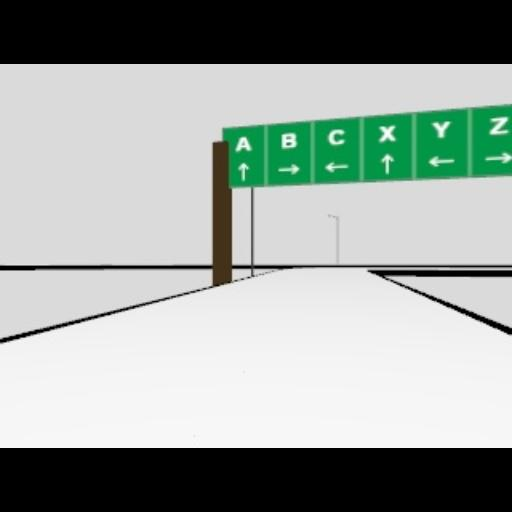A: (233, 136, 251, 152)
B: (280, 131, 296, 149)
C: (326, 128, 346, 146)
Left: (426, 156, 456, 166), (323, 162, 349, 172)
Right: (485, 152, 511, 164), (277, 164, 299, 174)
Straight: (380, 152, 394, 172), (236, 162, 248, 180)
X: (377, 125, 395, 141)
Y: (430, 120, 452, 138)
Z: (488, 116, 508, 134)
